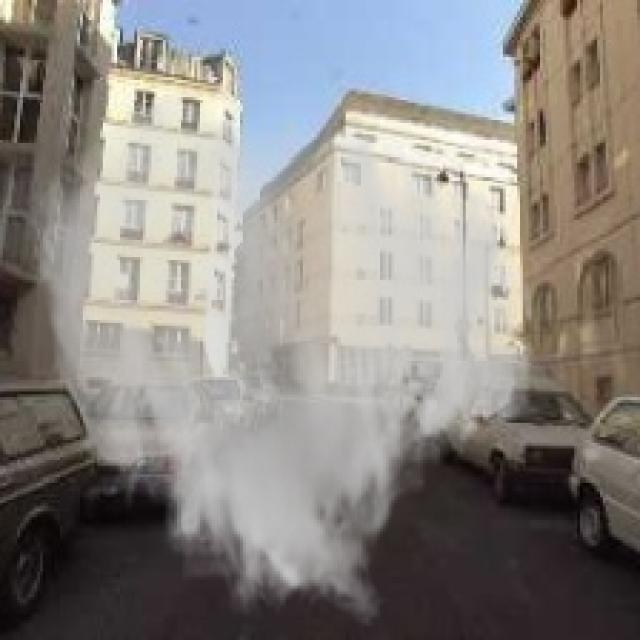Smoke: (26, 86, 540, 628)
